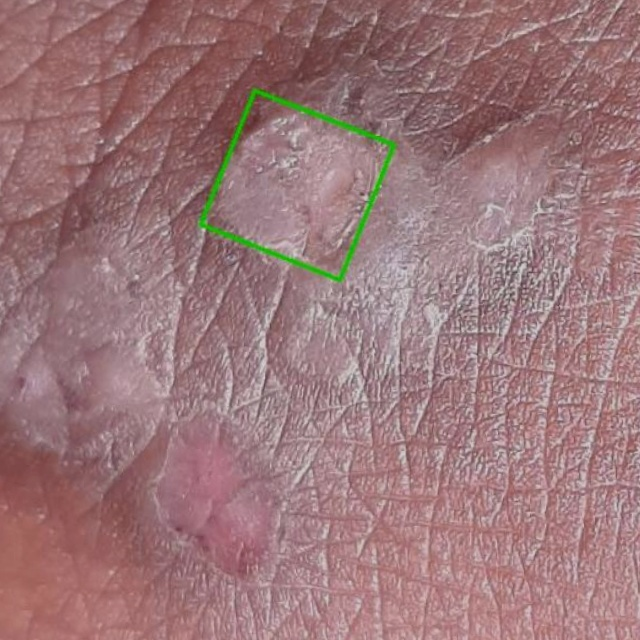Contact Dermatitis: (201, 90, 394, 280)
